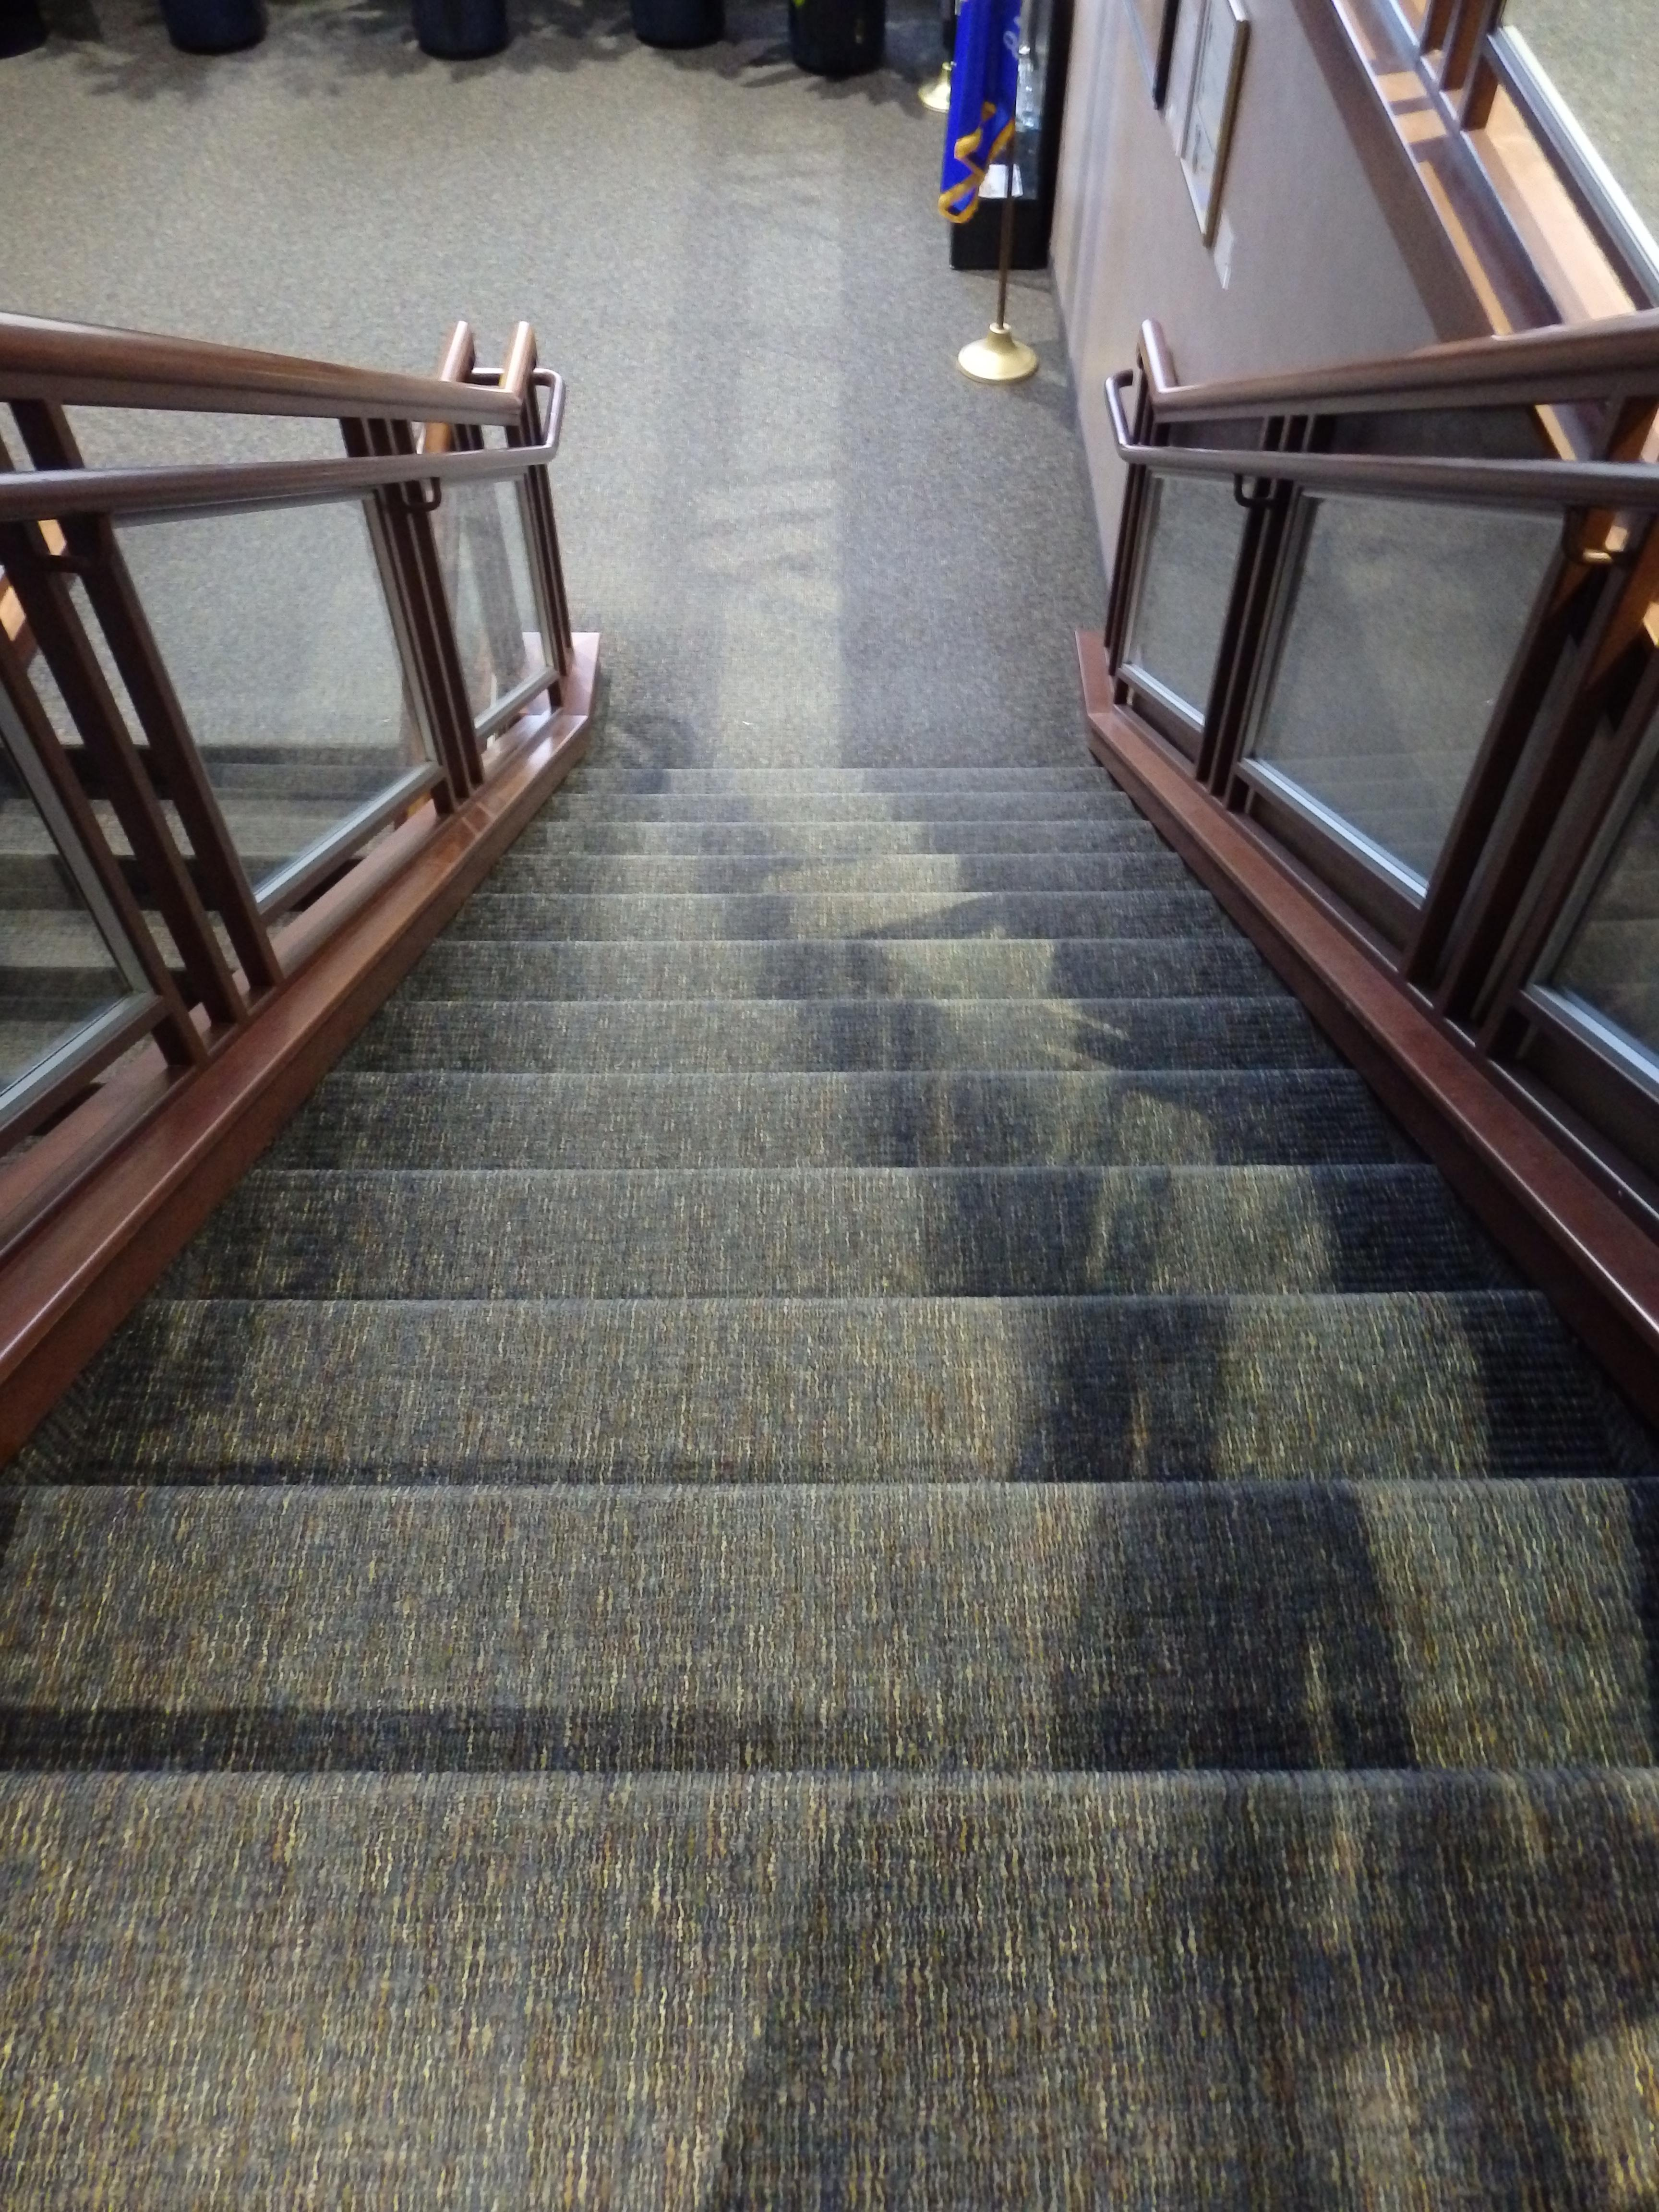stairs_down: (28, 664, 1652, 1867)
